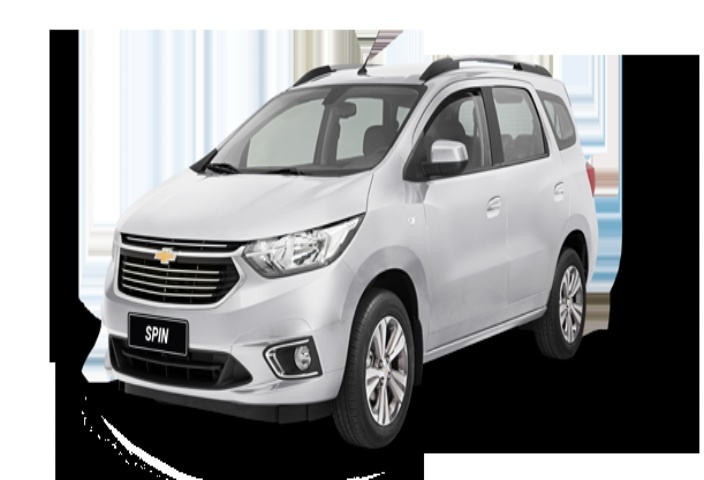camper: (103, 52, 600, 440)
